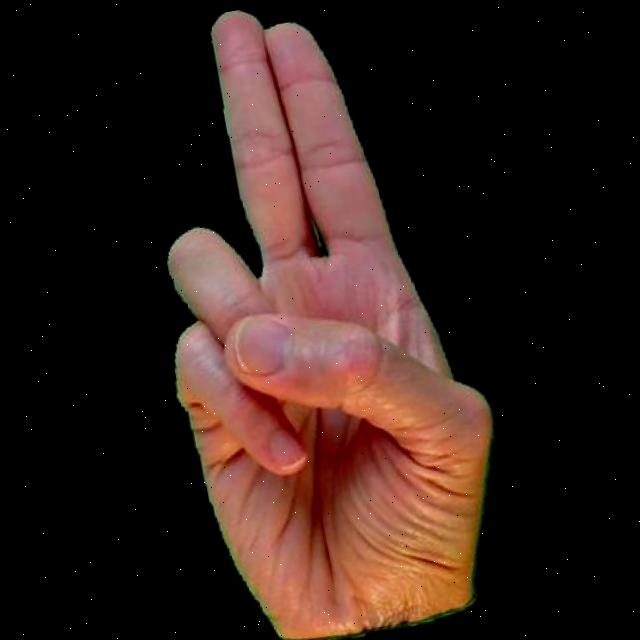u: (97, 0, 537, 640)
